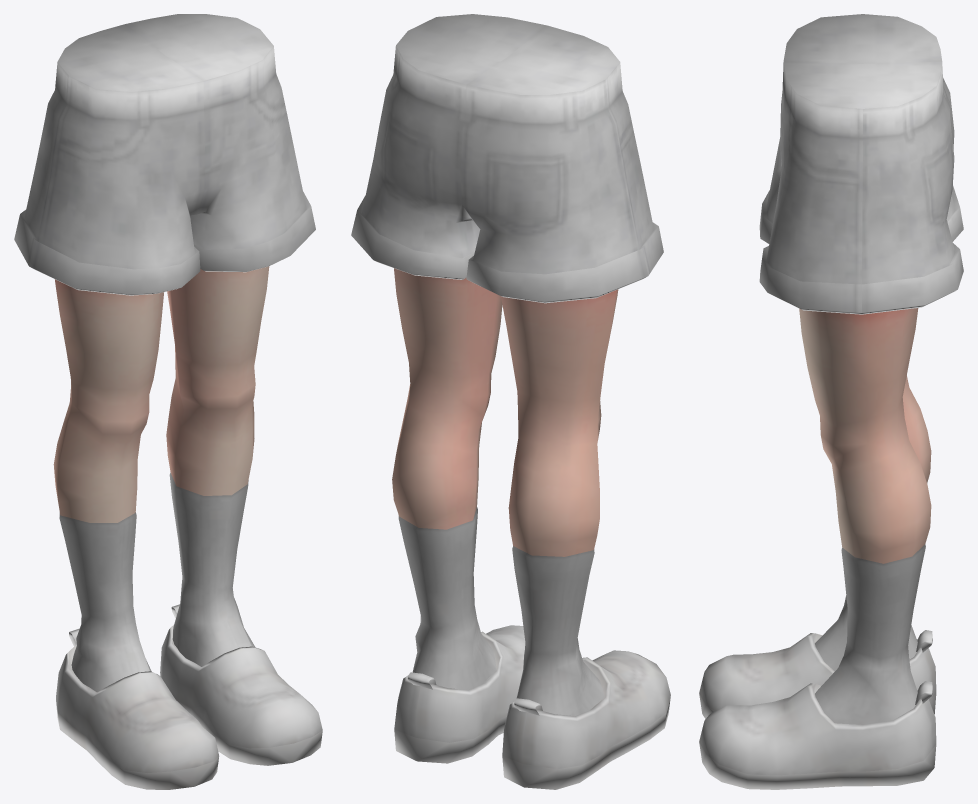
Rendered from tr0750_00_lwb00.gltf.
3 views of the same model, side by side, from view 1: azimuth 30°, elevation 25°; view 2: azimuth 150°, elevation 25°; view 3: azimuth 270°, elevation 25° (orthographic). The views are drawn at different scales.
Visible parts, largest first — view 1: lwb00_bottoms_mesh_shape:lowerbody00, lwb00_lowerbody_mesh_shape:lowerbody00_skin, lwb00_shoes_mesh_shape:lowerbody00, lwb00_lowerbody_mesh_shape:lowerbody00; view 2: lwb00_bottoms_mesh_shape:lowerbody00, lwb00_lowerbody_mesh_shape:lowerbody00_skin, lwb00_shoes_mesh_shape:lowerbody00, lwb00_lowerbody_mesh_shape:lowerbody00; view 3: lwb00_bottoms_mesh_shape:lowerbody00, lwb00_shoes_mesh_shape:lowerbody00, lwb00_lowerbody_mesh_shape:lowerbody00_skin, lwb00_lowerbody_mesh_shape:lowerbody00.
Boxes of the visible parts, x1,y1,x2,y2 form: lwb00_bottoms_mesh_shape:lowerbody00: (14, 14, 315, 295); lwb00_lowerbody_mesh_shape:lowerbody00_skin: (53, 266, 269, 522); lwb00_shoes_mesh_shape:lowerbody00: (56, 604, 322, 789); lwb00_lowerbody_mesh_shape:lowerbody00: (59, 472, 255, 692); lwb00_bottoms_mesh_shape:lowerbody00: (351, 14, 663, 303); lwb00_lowerbody_mesh_shape:lowerbody00_skin: (392, 268, 618, 556); lwb00_shoes_mesh_shape:lowerbody00: (394, 625, 670, 789); lwb00_lowerbody_mesh_shape:lowerbody00: (398, 507, 604, 716); lwb00_bottoms_mesh_shape:lowerbody00: (759, 14, 963, 314); lwb00_shoes_mesh_shape:lowerbody00: (699, 630, 936, 789); lwb00_lowerbody_mesh_shape:lowerbody00_skin: (799, 308, 931, 563); lwb00_lowerbody_mesh_shape:lowerbody00: (815, 544, 925, 724).
Size of what is drawn, in the model's own units: 0.4098 by 0.9626 by 0.3391.
2 materials, 2 textured.
